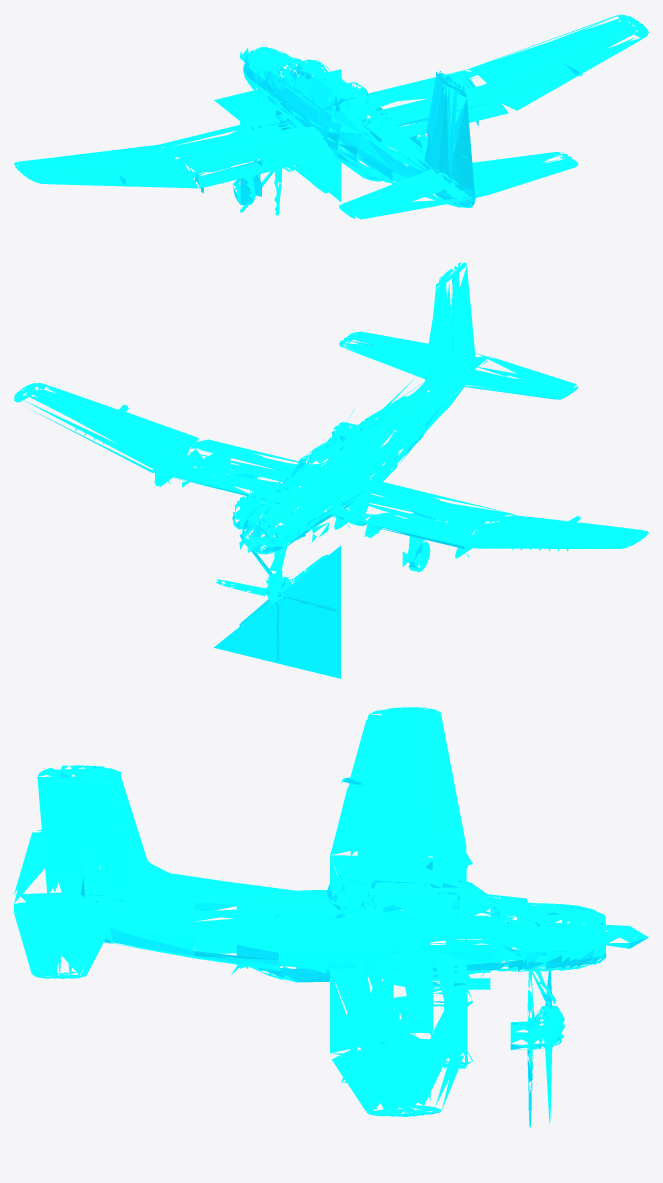
File: PAAF510.glb
3 renders of one model, top to bottom at view 1: azimuth 30°, elevation 25°; view 2: azimuth 150°, elevation 25°; view 3: azimuth 270°, elevation 25°, orthographic. The views are drawn at different scales.
Visible parts, largest first — view 1: misc; view 2: misc; view 3: misc.
Part boxes in pixels (x1,y1,x2,y2): misc: (14, 14, 648, 219); misc: (14, 262, 648, 678); misc: (14, 707, 648, 1127).
Size of the model in its own units: 1.42 by 0.5868 by 0.9347.
